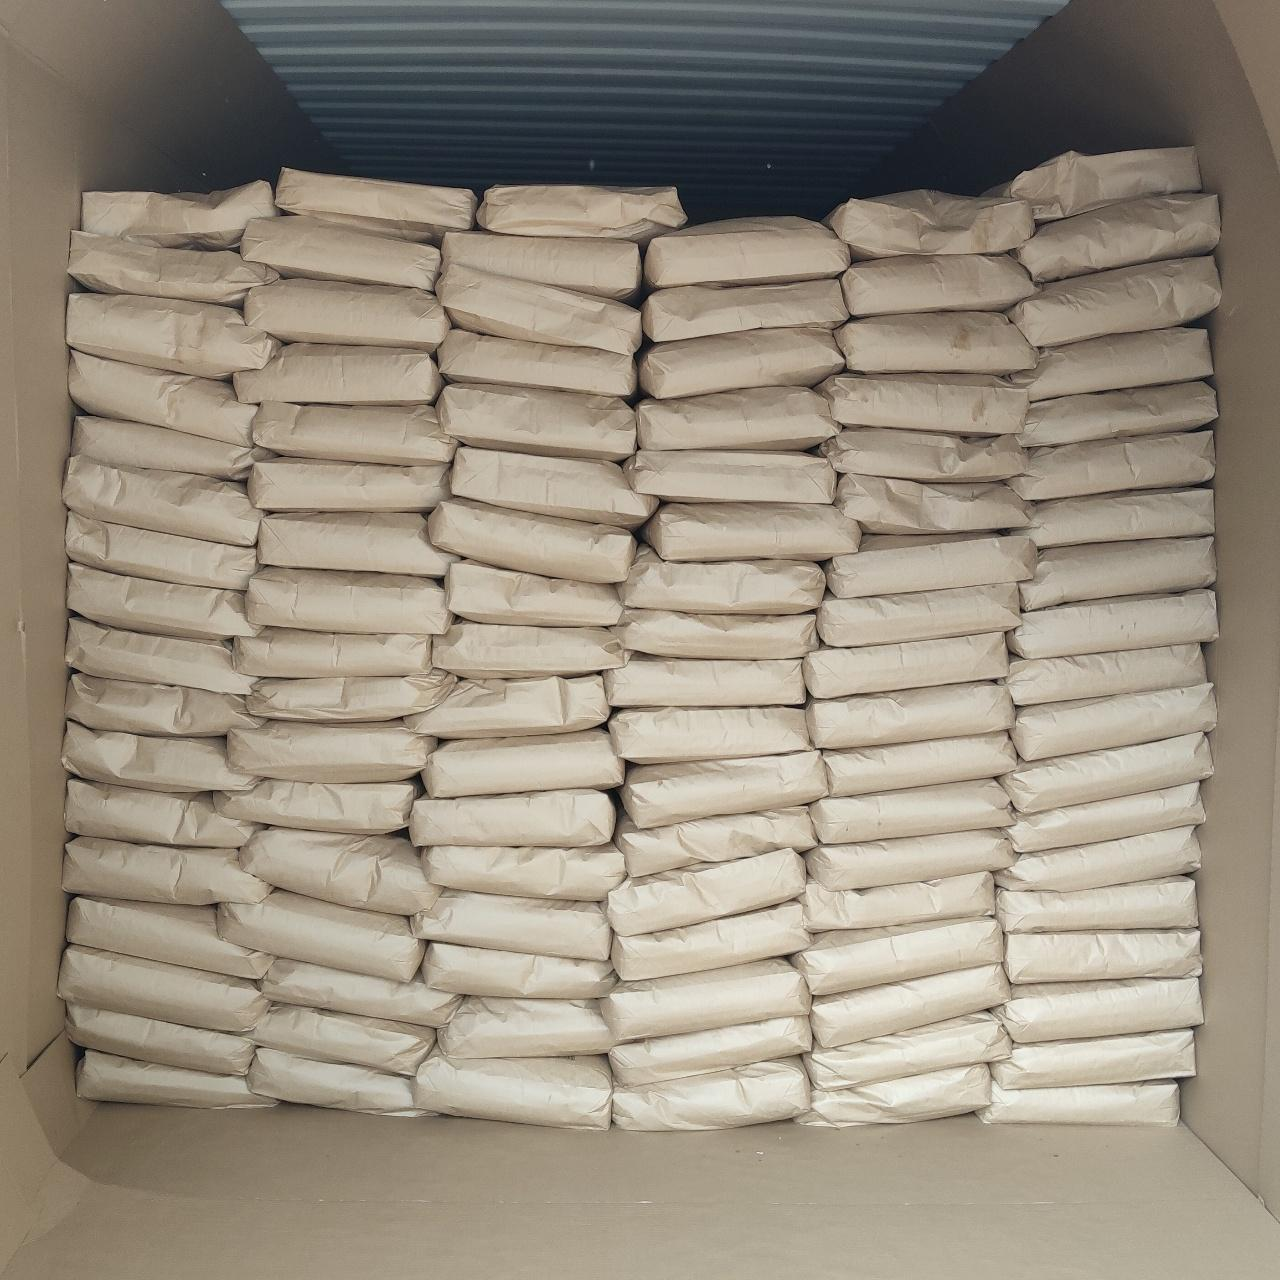sack: (1009, 257, 1220, 347), (217, 891, 423, 981), (437, 264, 640, 354), (62, 456, 263, 546), (600, 958, 810, 1044), (59, 945, 266, 1032), (70, 350, 257, 446), (66, 293, 279, 377), (1019, 194, 1219, 283), (239, 827, 438, 915), (450, 446, 658, 529), (607, 848, 805, 935), (428, 500, 636, 582), (1000, 733, 1212, 813), (67, 897, 271, 979), (791, 917, 1003, 995), (810, 964, 1009, 1047), (411, 1046, 611, 1128), (620, 749, 828, 827), (1010, 683, 1216, 761), (984, 147, 1201, 221), (611, 901, 811, 980), (68, 231, 279, 305), (806, 1013, 1010, 1089), (244, 278, 450, 352), (436, 384, 635, 460), (1009, 328, 1212, 402), (275, 168, 477, 242), (67, 511, 256, 590), (66, 617, 255, 695), (241, 216, 439, 290), (646, 217, 849, 289), (824, 190, 1034, 259), (1005, 431, 1214, 500), (1009, 590, 1217, 659), (609, 1015, 811, 1086), (1004, 782, 1204, 853), (1021, 537, 1215, 610), (67, 563, 258, 637), (63, 837, 270, 905), (442, 232, 642, 302), (62, 720, 256, 792), (614, 807, 816, 876), (412, 890, 611, 960), (613, 1057, 809, 1128), (640, 330, 844, 398), (422, 730, 624, 798), (620, 547, 825, 614), (246, 567, 450, 634), (67, 1002, 254, 1075), (992, 978, 1202, 1043), (439, 329, 636, 398), (262, 958, 458, 1027), (805, 632, 1009, 698), (65, 778, 260, 847), (807, 683, 1014, 748), (810, 778, 1015, 843), (246, 1047, 436, 1117), (826, 535, 1037, 598), (1019, 381, 1217, 448), (996, 826, 1200, 891), (80, 180, 275, 247), (252, 1004, 435, 1075), (227, 720, 436, 782), (816, 373, 1028, 434), (253, 402, 457, 465), (817, 583, 1020, 646), (642, 279, 848, 341), (233, 343, 442, 404), (637, 387, 839, 450), (257, 513, 452, 578), (405, 675, 609, 737), (805, 830, 1015, 890), (796, 1064, 991, 1128), (823, 732, 1015, 797), (642, 503, 860, 560), (1006, 643, 1205, 705), (835, 313, 1036, 374), (477, 186, 687, 244), (67, 674, 260, 737), (991, 1029, 1195, 1088), (841, 255, 1035, 317), (837, 474, 1034, 534), (410, 789, 615, 846), (1024, 487, 1214, 548), (72, 416, 253, 480), (421, 844, 627, 900), (802, 872, 994, 932), (214, 779, 422, 834), (446, 560, 622, 625), (997, 876, 1197, 933), (77, 1050, 276, 1107), (626, 449, 835, 503), (608, 708, 811, 763), (248, 457, 449, 512), (432, 621, 628, 677), (1005, 928, 1200, 984), (421, 943, 615, 999), (439, 997, 617, 1058), (822, 428, 1026, 481), (244, 672, 455, 722), (603, 655, 805, 706), (613, 609, 818, 659), (234, 627, 431, 676), (976, 1079, 1178, 1125)
